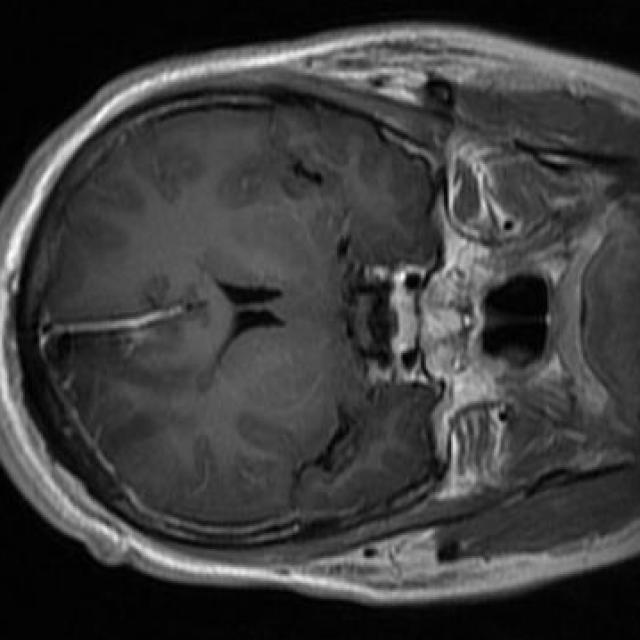glioma: (45, 305, 182, 414)
